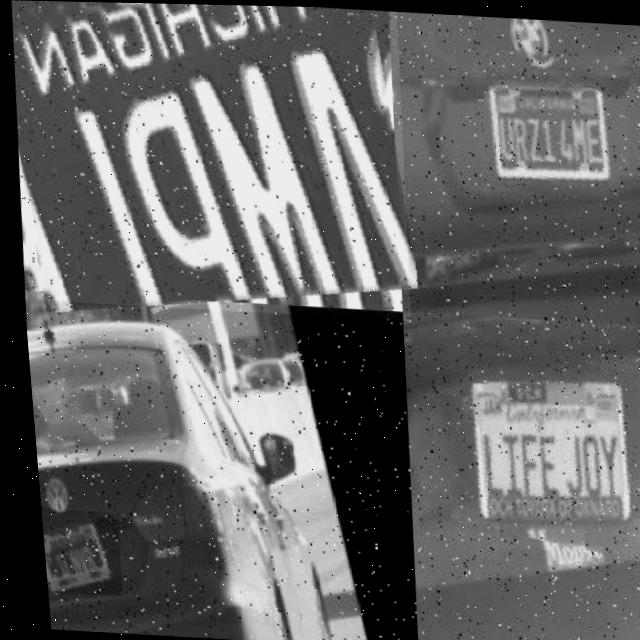LicensePlate: (0, 0, 416, 319), (435, 343, 640, 553), (468, 45, 633, 201), (32, 507, 114, 595)
